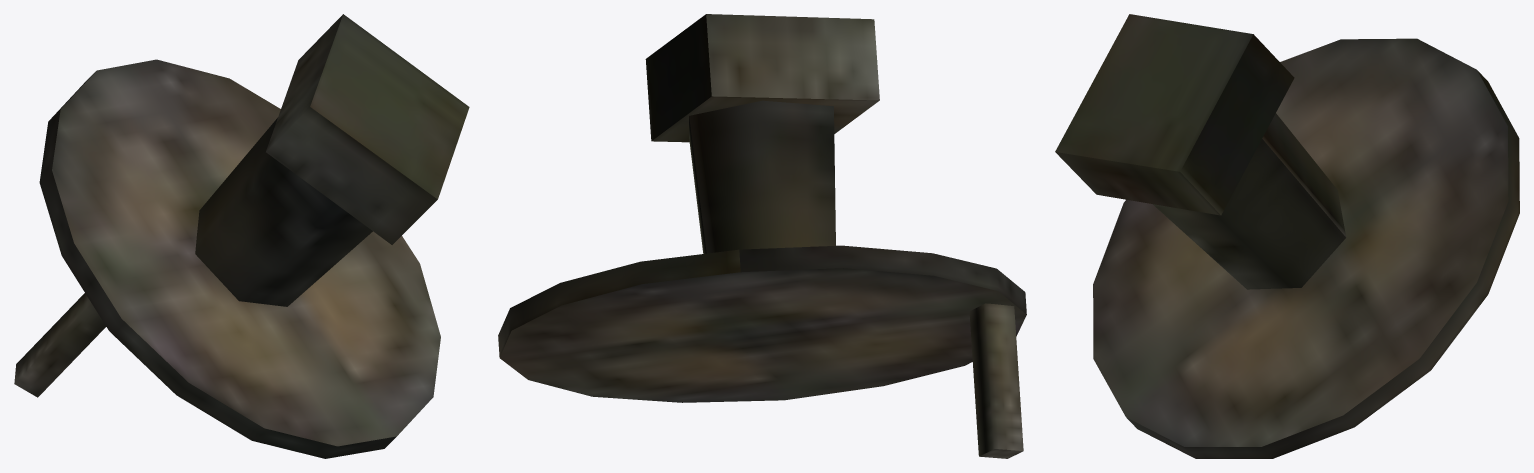
Rendered from prop_flak88_piece0.glb.
3 views of the same model, side by side, from view 1: azimuth 30°, elevation 25°; view 2: azimuth 150°, elevation 25°; view 3: azimuth 270°, elevation 25° (orthographic). The views are drawn at different scales.
Bounding box in the file's own units: 17.17 × 14.9 × 15.6.
Materials: 1 (1 with a texture image).
